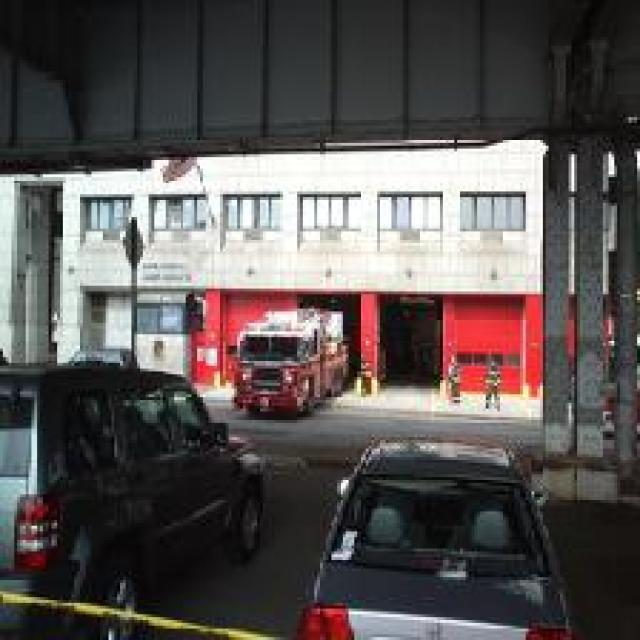emergency: (228, 302, 352, 418)
